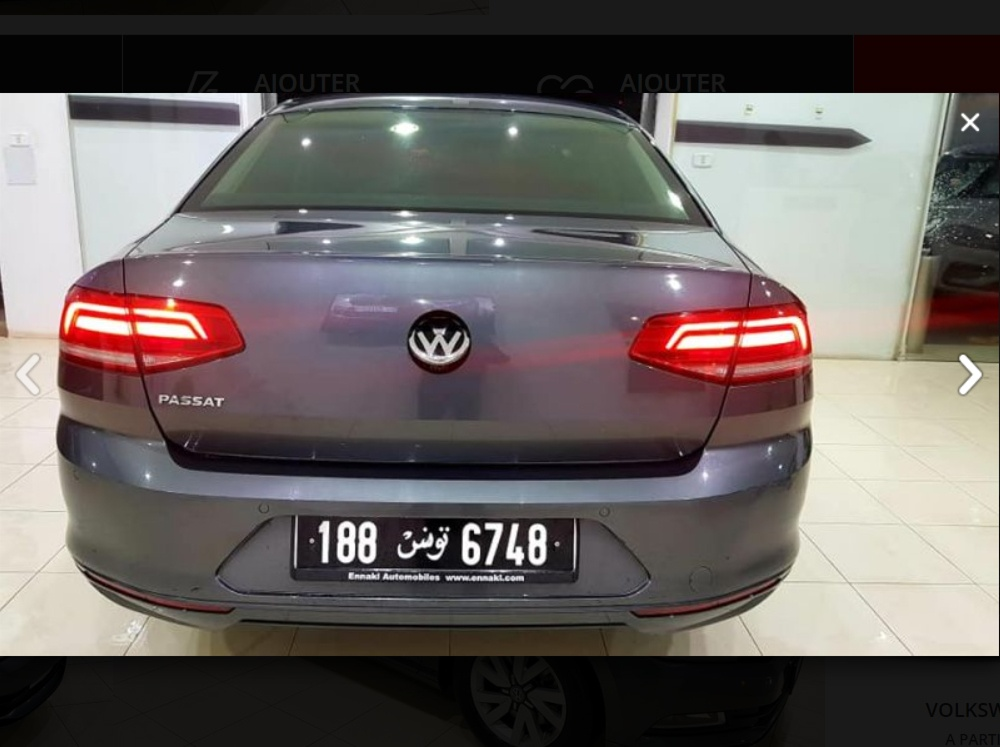LP: (290, 510, 583, 583)
